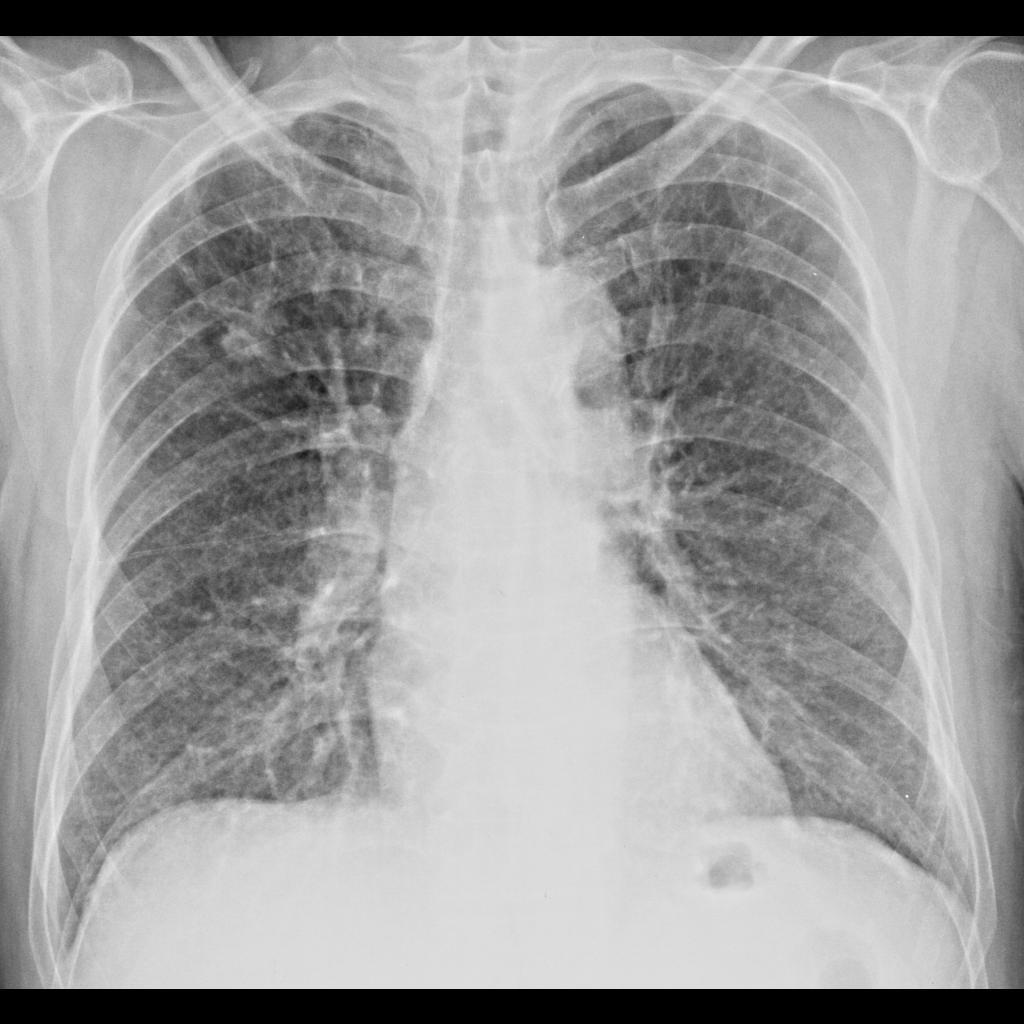Nodule: (217, 299, 285, 366)
